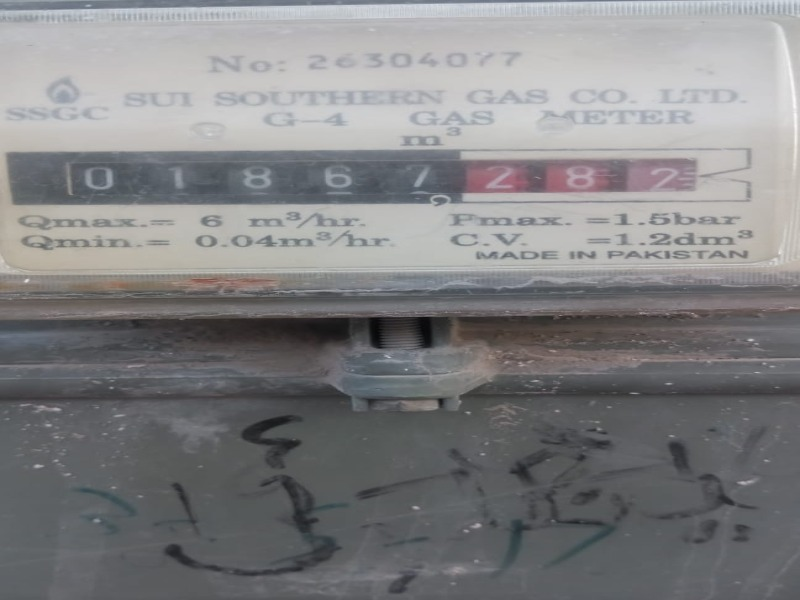ssgc: (41, 149, 711, 204)
